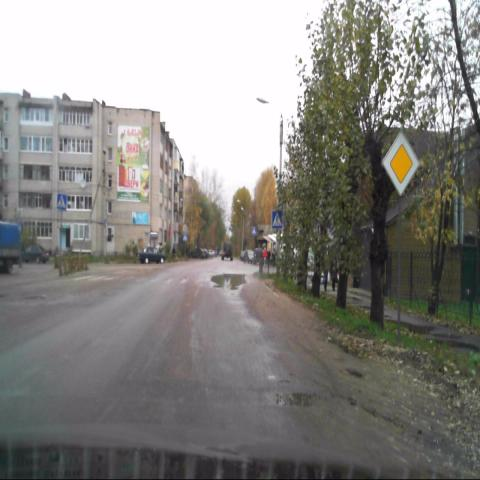2_1: (383, 131, 418, 196)
5_19_1: (57, 193, 67, 211), (272, 211, 281, 227)
